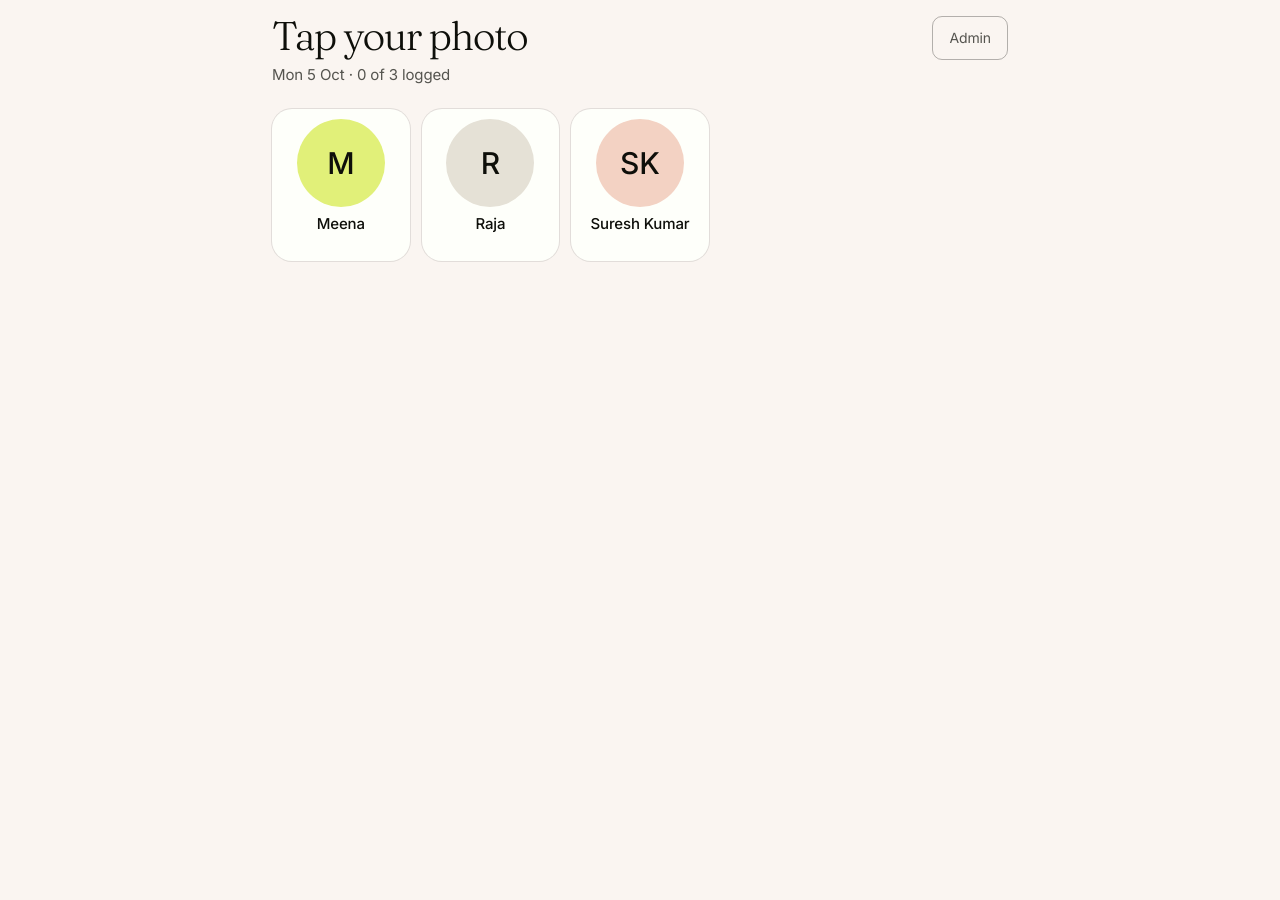
Scenario: Gate mode: the grid › Not me closes the card and saves nothing
Click the button with aria-label "Meena: log arrival": (341,185) [272,109,410,261]
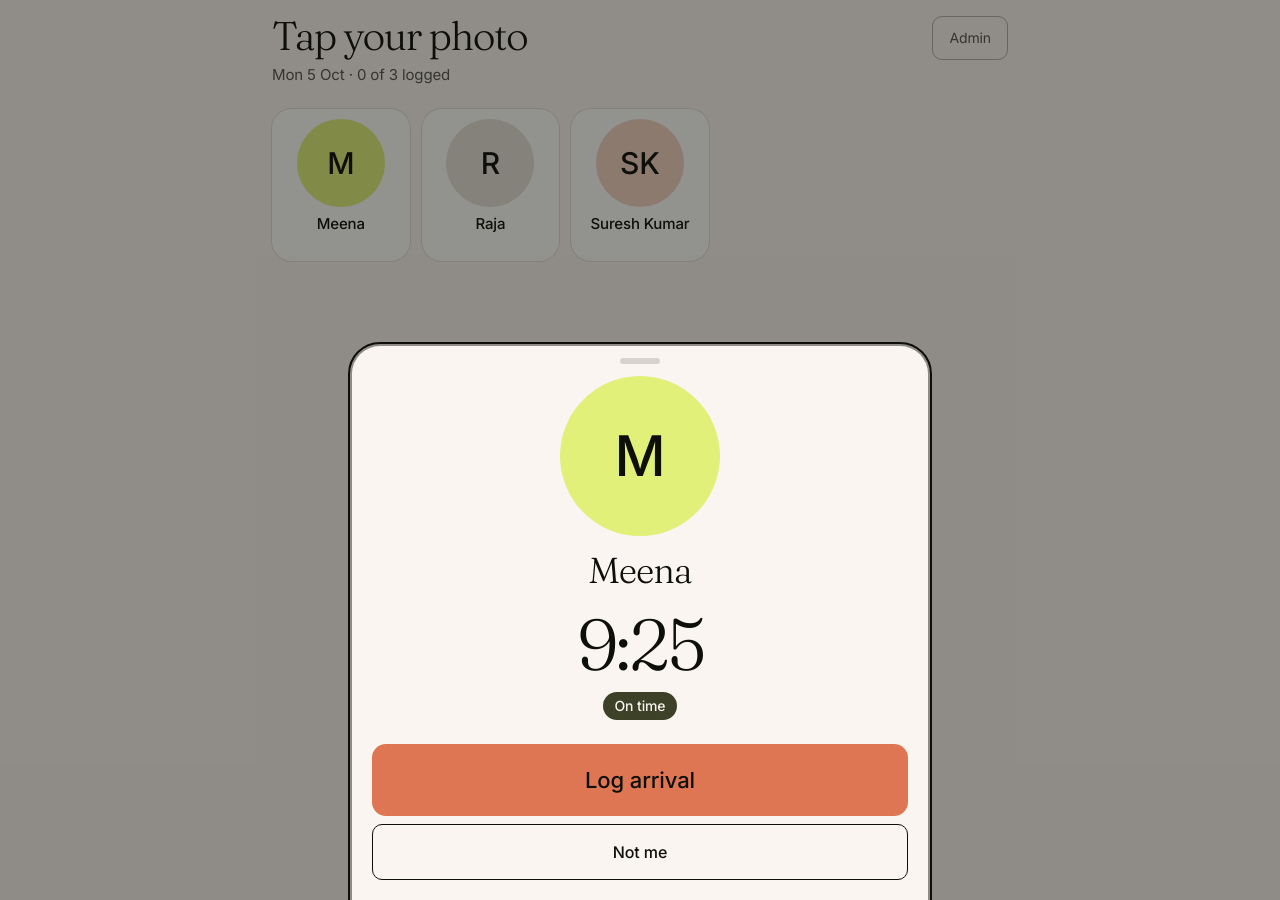
Click the button "Not me": (640,852) [372,824,908,880]
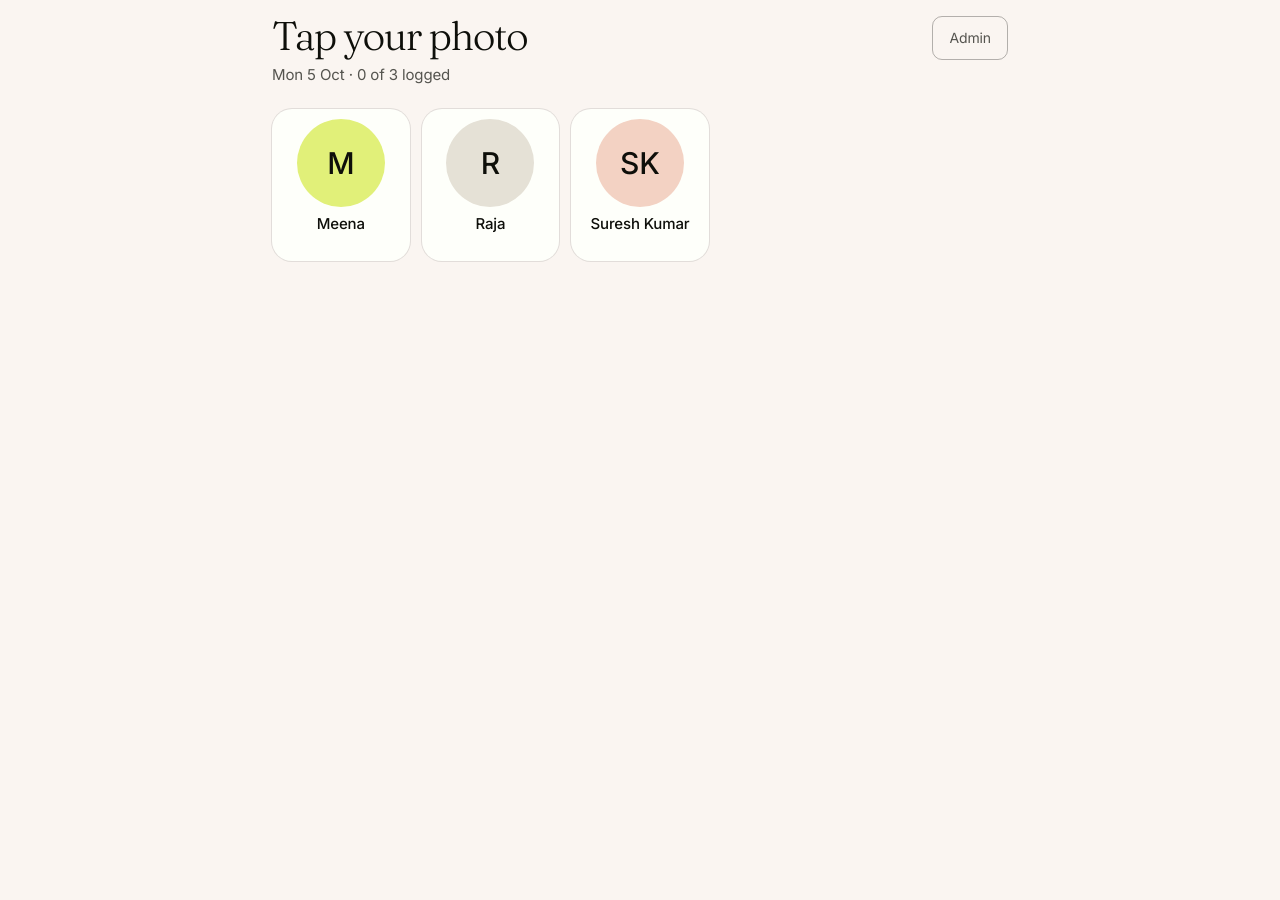
Expected: the dialog is gone
